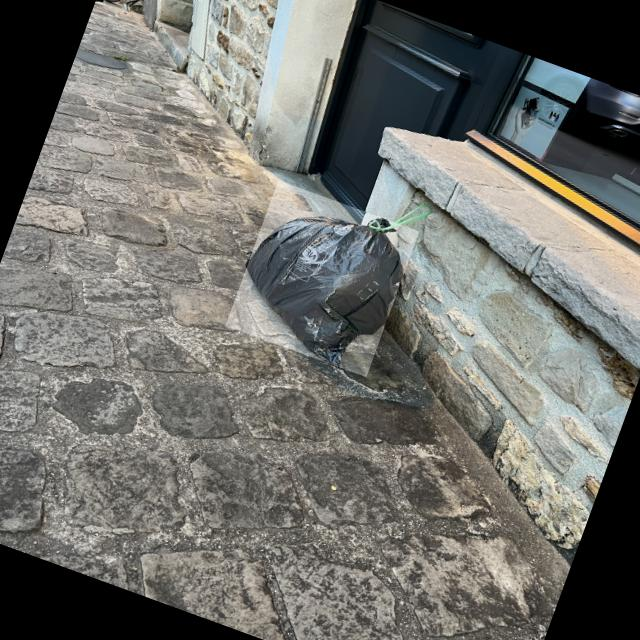Garbage bag: (246, 216, 403, 367)
